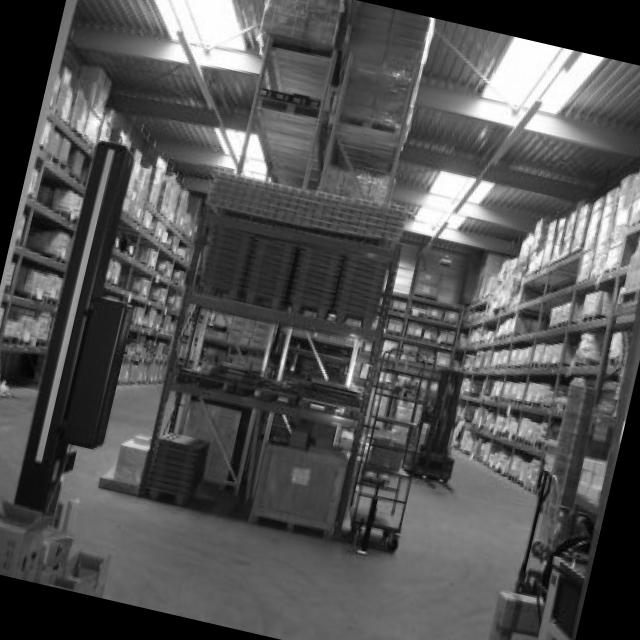box occluded: (0, 494, 50, 572)
carte: (249, 432, 350, 537)
ceiling beam: (72, 0, 640, 264)
floor -X: (0, 374, 599, 640)
hand trolley: (348, 348, 429, 547)
package: (460, 164, 640, 308), (131, 148, 206, 237), (574, 288, 612, 317), (549, 303, 570, 325)
pallets: (204, 164, 409, 247)
shelves crop: (453, 261, 634, 472)
